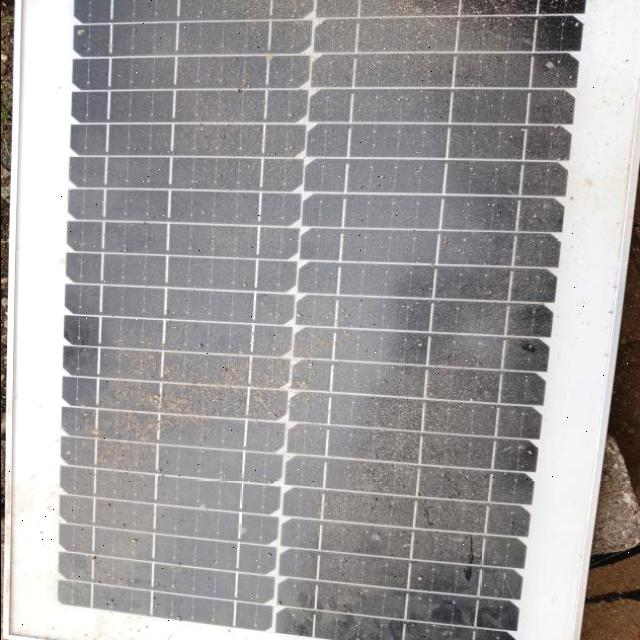Surface Contaminant: (36, 1, 557, 636)
